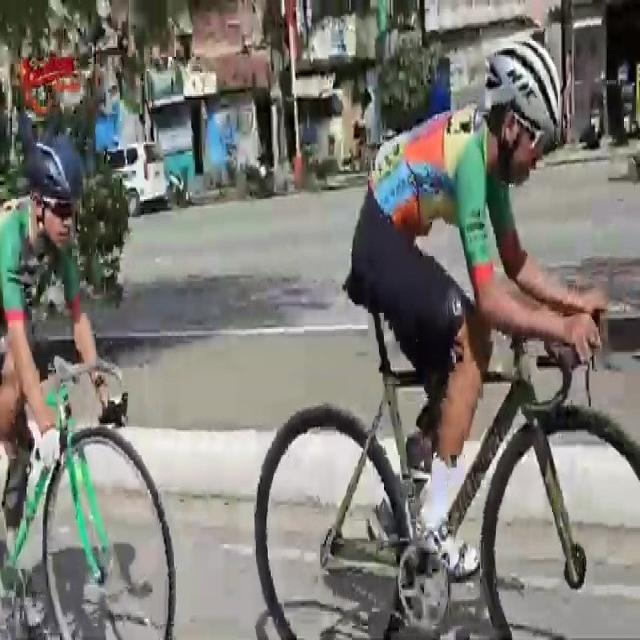bike: (254, 29, 640, 640), (0, 133, 180, 640)
car: (104, 128, 169, 224)
